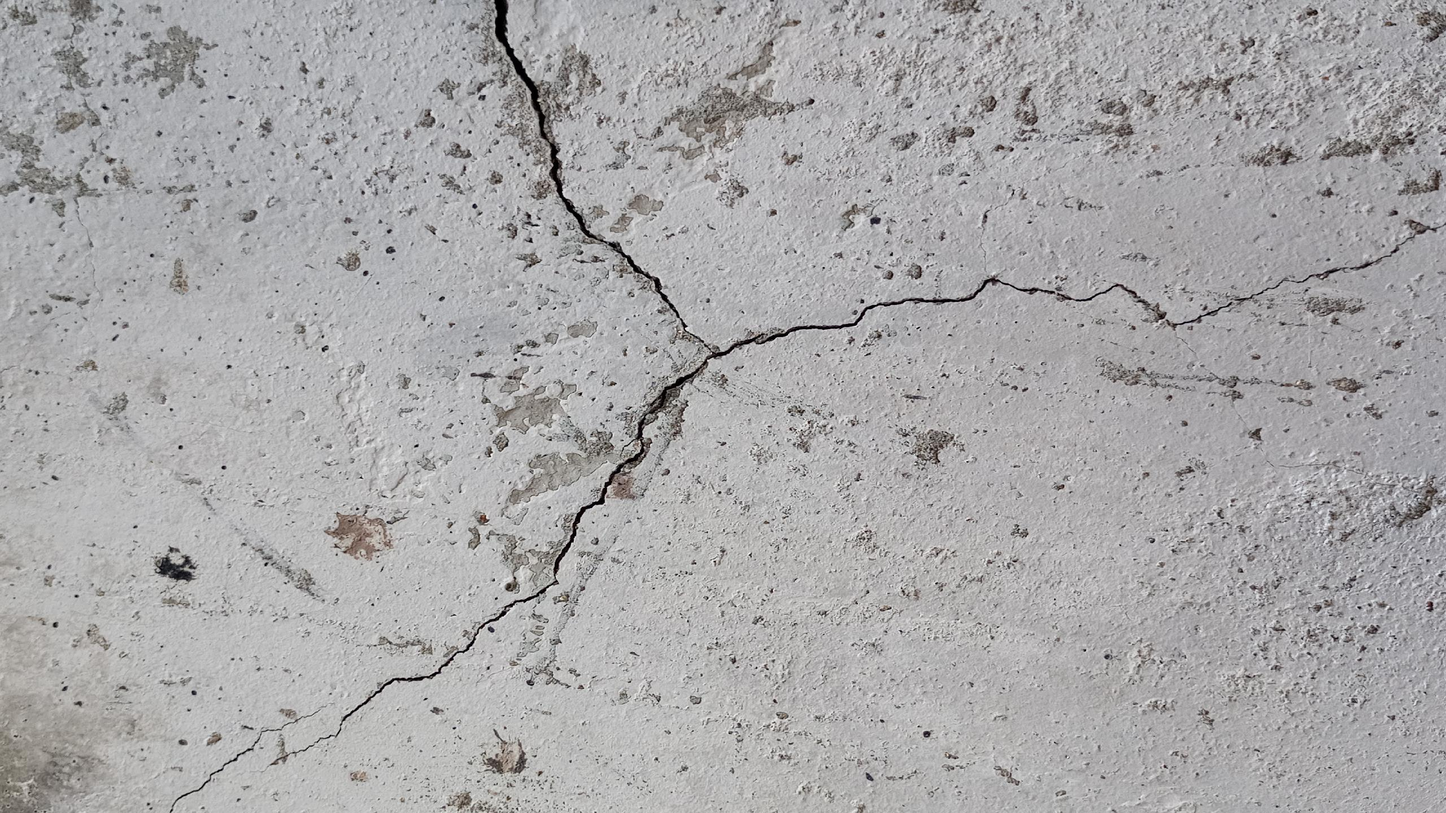crack: (270, 0, 1445, 764), (169, 710, 319, 810)
